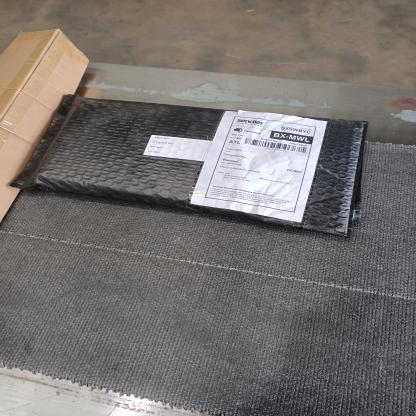label: (196, 98, 322, 229)
package: (32, 89, 375, 251), (4, 22, 98, 244)
